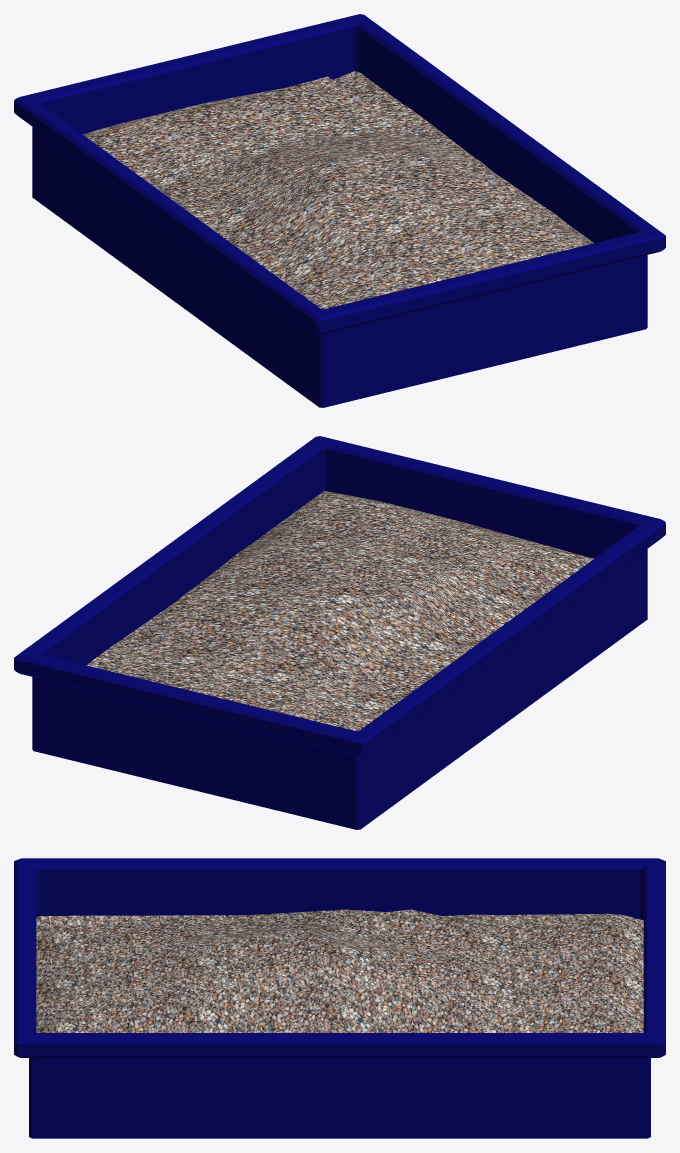
Rendered from LitterTray.fbx.
3 renders of one model, top to bottom at view 1: azimuth 30°, elevation 25°; view 2: azimuth 150°, elevation 25°; view 3: azimuth 270°, elevation 25°, orthographic. The views are drawn at different scales.
Parts seen in each view (by area): view 1: pCube1, pPlatonic1; view 2: pCube1, pPlatonic1; view 3: pCube1, pPlatonic1.
Boxes of the visible parts, bbox=[...] form: pCube1: bbox=[14, 14, 665, 407]; pPlatonic1: bbox=[83, 71, 593, 308]; pCube1: bbox=[14, 436, 665, 829]; pPlatonic1: bbox=[86, 491, 594, 730]; pCube1: bbox=[14, 858, 665, 1138]; pPlatonic1: bbox=[36, 909, 643, 1032].
Size of the model in its own units: 4 by 1.05 by 6.
Materials: 2 (1 with a texture image).
